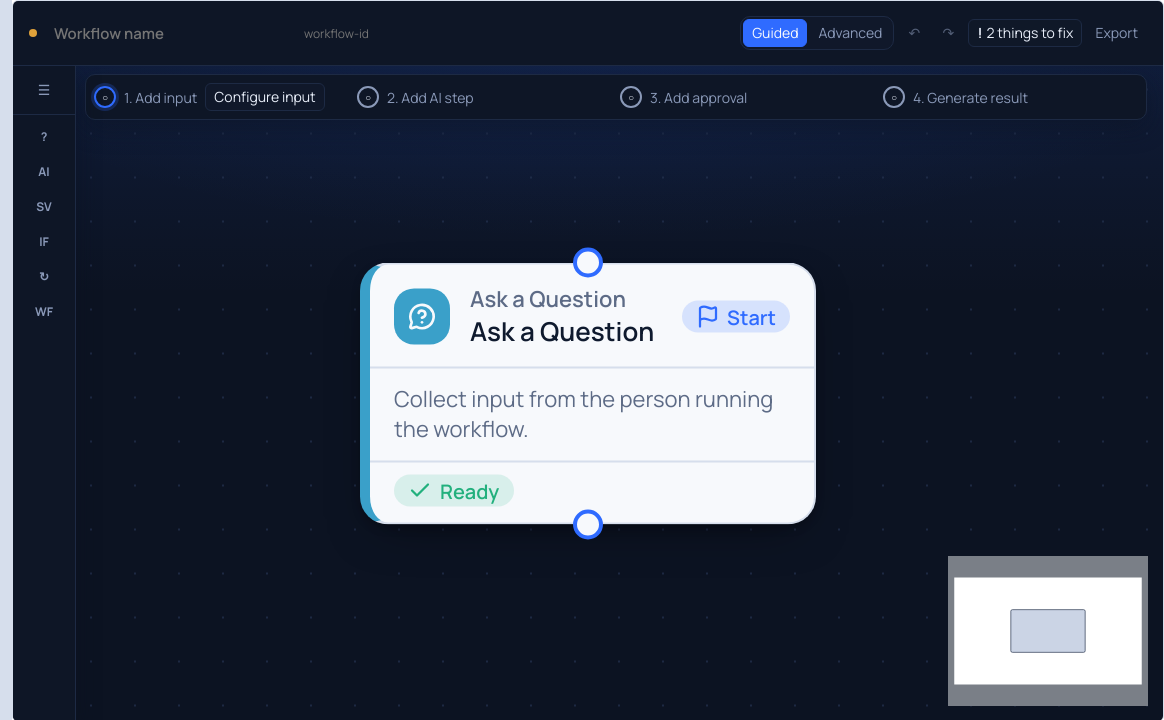
Test: Export success confirmation › shows a persisted, visible confirmation with the produced filename after a successful export
Click the button with test id "workflow-builder-export" at [1117, 33], box [1086, 19, 1147, 47]
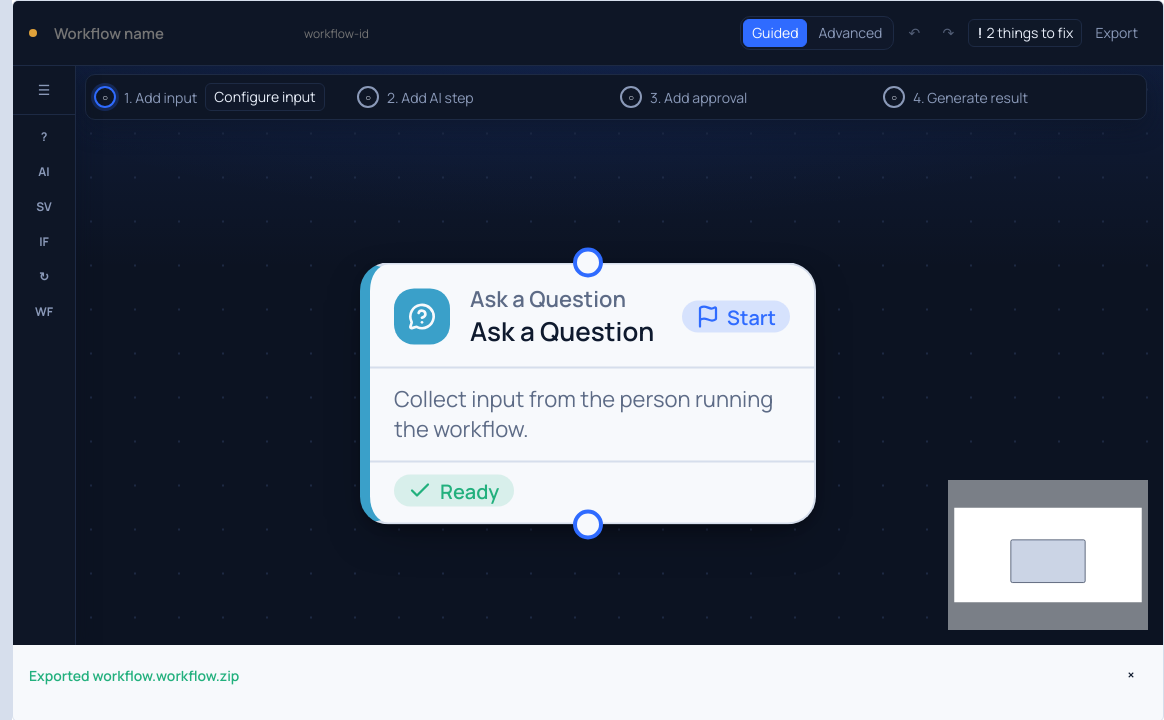
Now the message with test id "export-success" shows "workflow.workflow.zip", box [29, 666, 239, 684]
Now the message "Exported workflow.workflow.zip ×" is shown, box [13, 659, 1163, 707]
